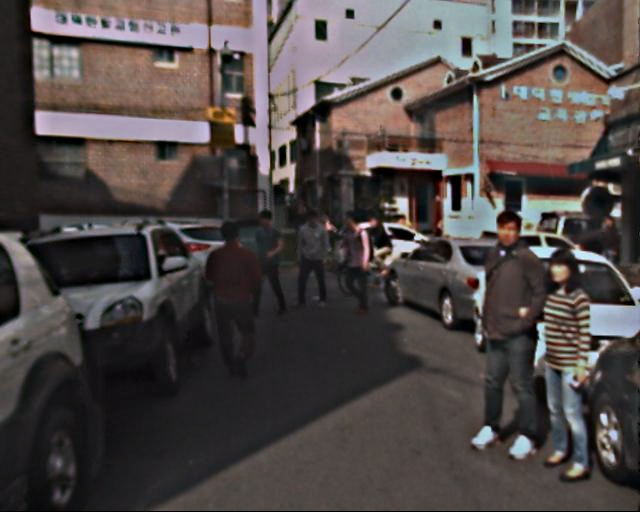person: (457, 210, 560, 462), (514, 251, 608, 480), (201, 224, 267, 385), (244, 211, 288, 319), (331, 210, 373, 313), (292, 210, 330, 303), (595, 213, 629, 297), (362, 210, 390, 278)
